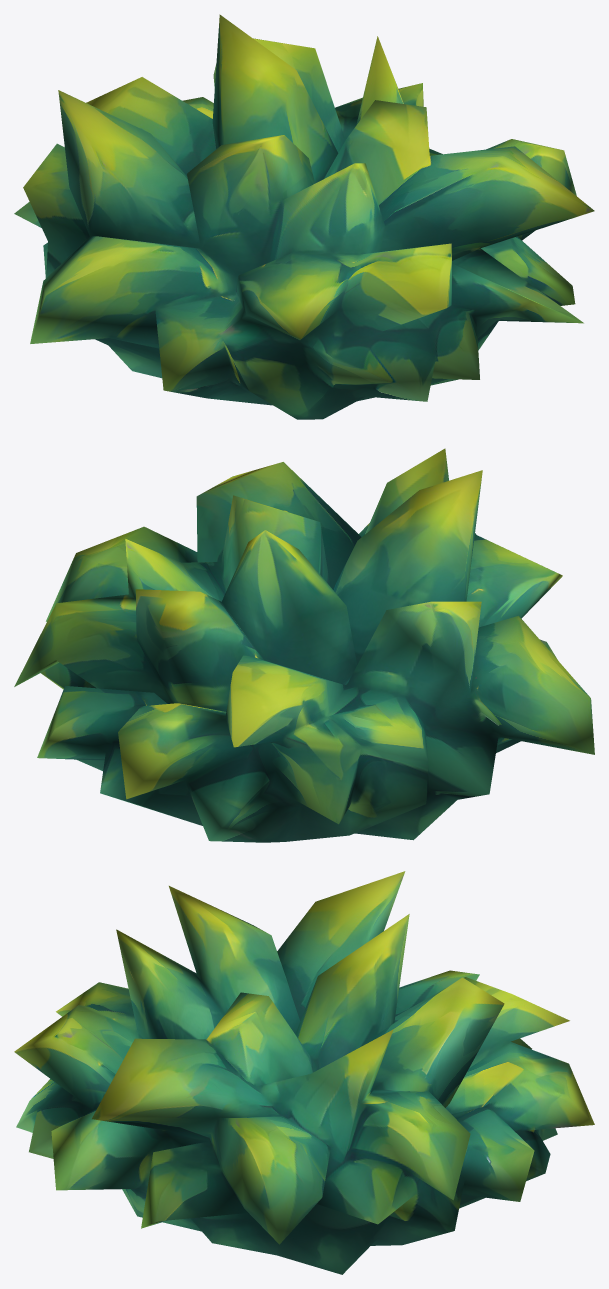
The model's file is bui_a.glb.
The picture shows the model from 3 angles, top to bottom: view 1: azimuth 30°, elevation 25°; view 2: azimuth 150°, elevation 25°; view 3: azimuth 270°, elevation 25°; orthographic projection. The views are drawn at different scales.
Parts seen in each view (by area): view 1: tripo_node_a4daa42a-a7a7-4375-afc0-5335947ee5a4; view 2: tripo_node_a4daa42a-a7a7-4375-afc0-5335947ee5a4; view 3: tripo_node_a4daa42a-a7a7-4375-afc0-5335947ee5a4.
Boxes of the visible parts, <box> form: tripo_node_a4daa42a-a7a7-4375-afc0-5335947ee5a4: <box>14,14,594,419</box>; tripo_node_a4daa42a-a7a7-4375-afc0-5335947ee5a4: <box>14,448,594,842</box>; tripo_node_a4daa42a-a7a7-4375-afc0-5335947ee5a4: <box>14,871,594,1274</box>.
Bounding box in the file's own units: 0.9826 × 0.5931 × 0.9648.
Materials: 1 (1 with a texture image).
